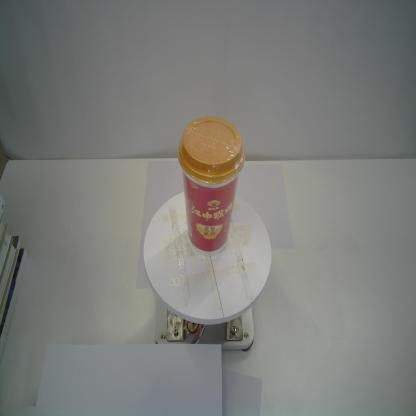Instant Drink: (176, 115, 246, 258)
